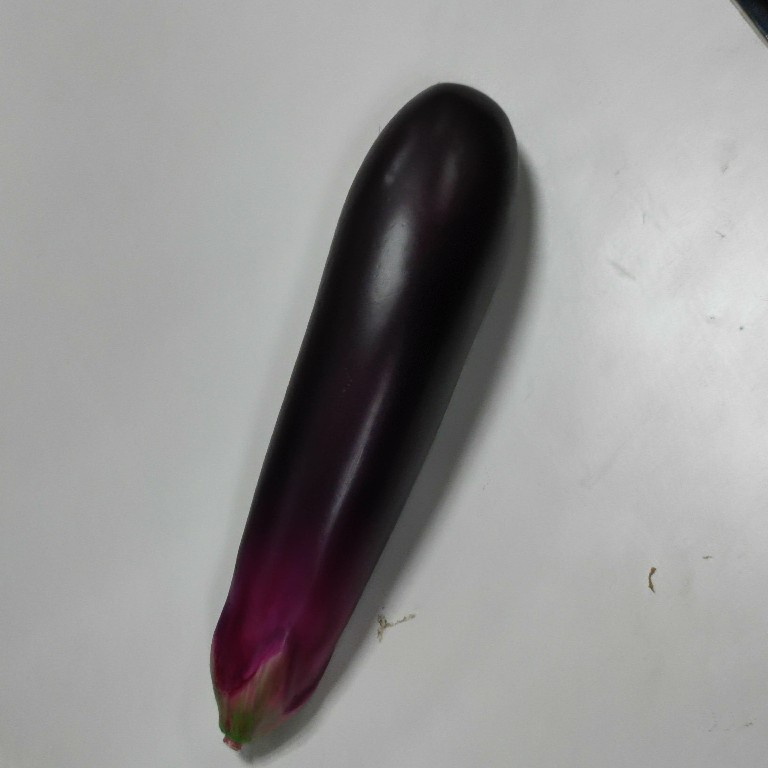fruit_eggplant: (198, 79, 525, 754)
